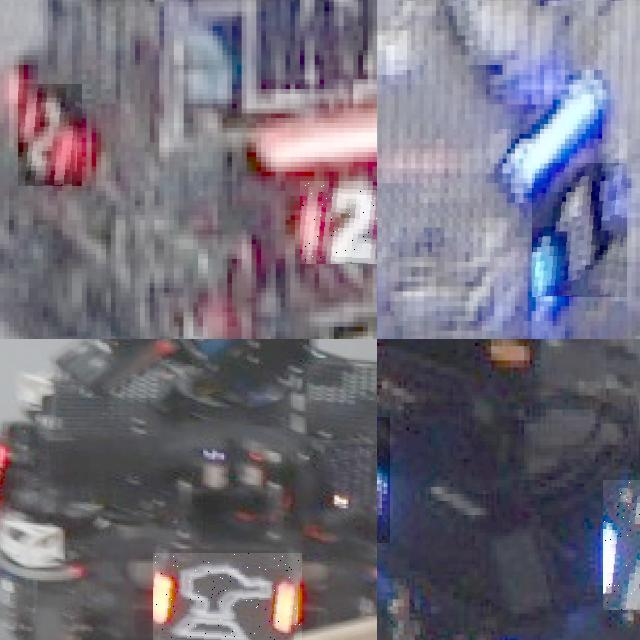B1: (532, 163, 627, 297)
B2: (603, 480, 640, 610)
R2: (18, 84, 82, 186), (299, 181, 377, 263)
Rs: (152, 553, 302, 640)
